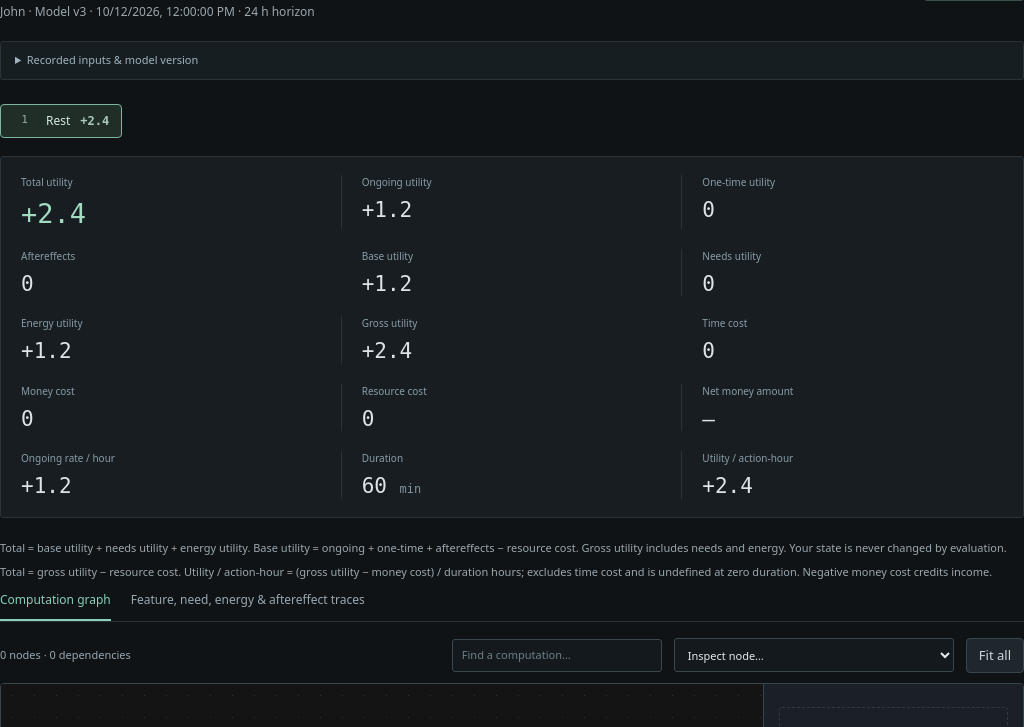
Test case: Mental rest energy reward presentation › shows the engine 8 rest adjustment separately from its base feature contribution
Step 1. Click the button "Feature, need, energy & aftereffect traces" → {"x": 248, "y": 600}, box [131,580,365,620]
(page scrolled)
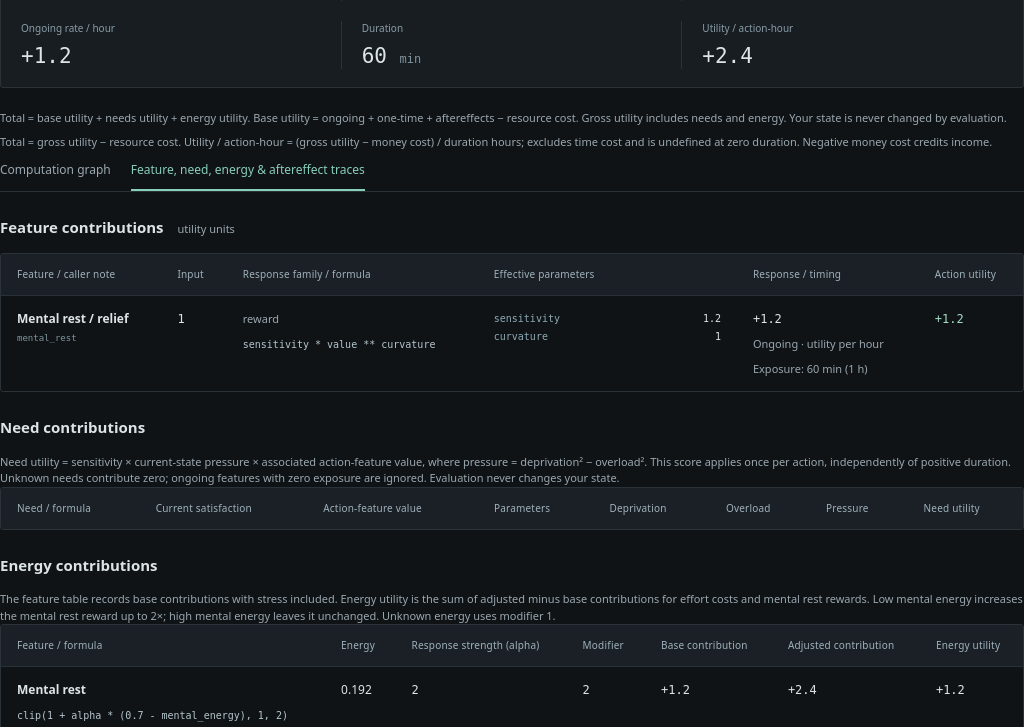
Check: the element "Energy contributions" shows "effort costs and mental rest rewards", box [0,591,1023,622]
Check: the text "Mental rest" shows "clip(1 + alpha * (0.7 - mental_energy), 1, 2)", box [17,710,288,721]
Check: the cell "+1.2" in the row of "Mental rest / relief" is shown, box [919,296,1023,391]
